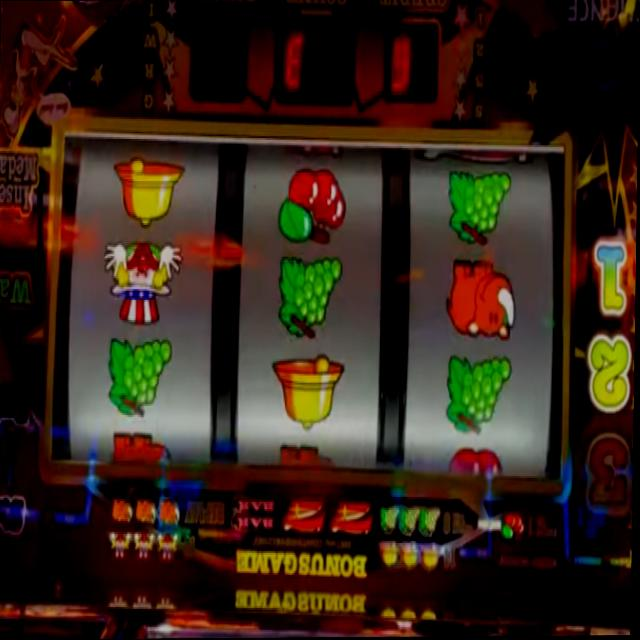bar: (229, 494, 278, 534)
bell: (270, 349, 345, 432), (110, 153, 185, 229), (398, 539, 422, 574), (421, 541, 443, 574), (377, 539, 399, 571)
cherry: (277, 167, 350, 247), (446, 445, 503, 481), (503, 509, 527, 543)
clown: (101, 235, 184, 326), (132, 529, 157, 567), (158, 528, 181, 567), (109, 528, 132, 566)
display: (54, 128, 566, 491)
elephant: (444, 256, 519, 345), (108, 426, 172, 468), (275, 443, 335, 471), (111, 495, 133, 527), (159, 495, 182, 525), (136, 496, 157, 525)
grape: (277, 251, 344, 342), (445, 351, 513, 440), (107, 332, 175, 418), (446, 166, 513, 248), (420, 503, 442, 536), (399, 502, 420, 534), (381, 503, 399, 537)
z: (330, 497, 374, 539), (283, 494, 326, 534)
